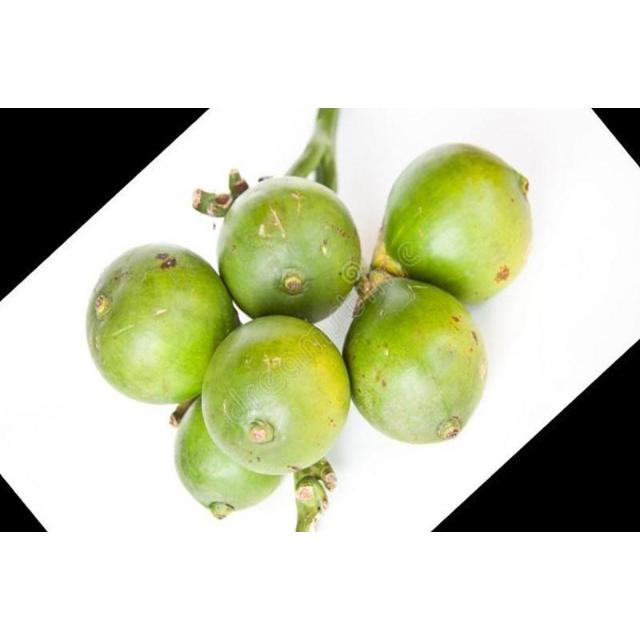good: (217, 144, 531, 462), (87, 238, 246, 432)
